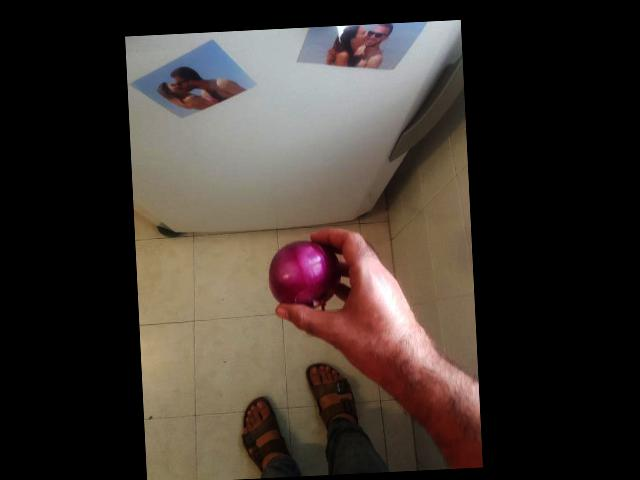onion: (265, 240, 348, 312)
